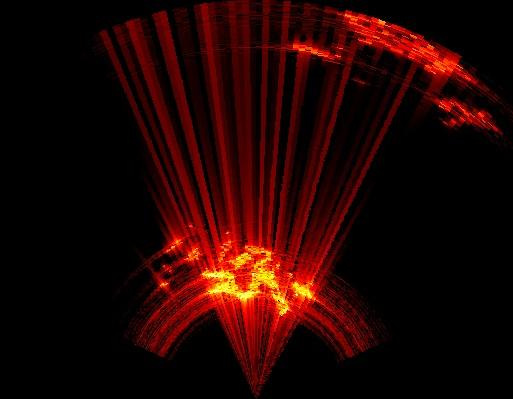shipwreck: (334, 9, 474, 78), (202, 246, 312, 313)
